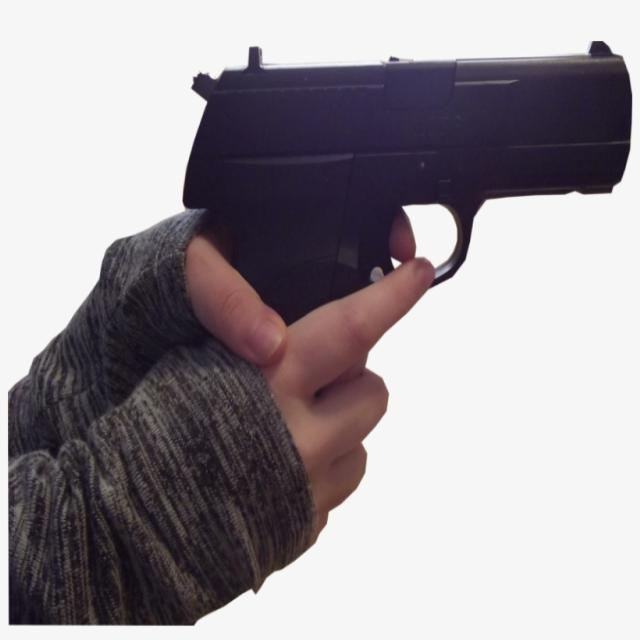HandGun: (180, 42, 633, 327)
